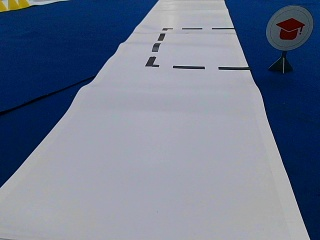school: (266, 5, 312, 49)
